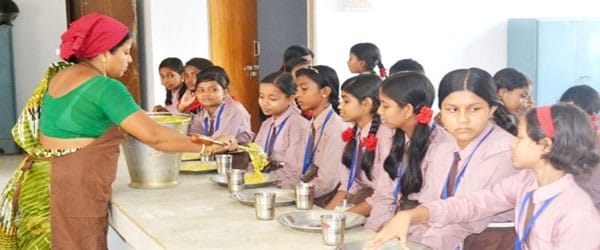student: (510, 105, 583, 178), (435, 70, 497, 141), (375, 80, 437, 139), (489, 59, 536, 111), (333, 77, 380, 124), (254, 75, 300, 119), (291, 66, 335, 111), (190, 73, 229, 110), (348, 41, 385, 79), (279, 42, 319, 66), (179, 59, 207, 93), (156, 57, 184, 90)
